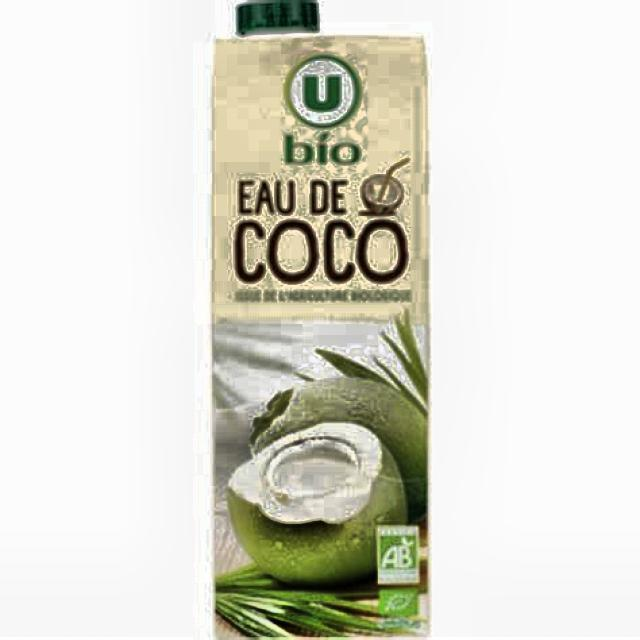cardboard: (209, 28, 431, 639)
